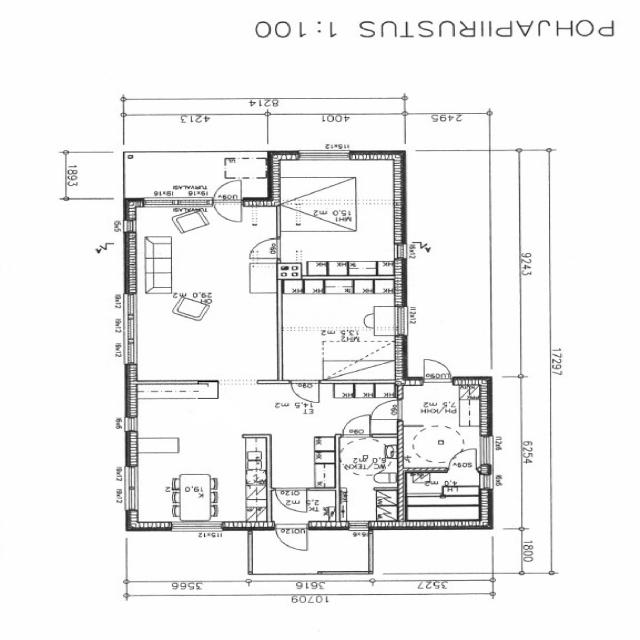door: (211, 179, 245, 225), (274, 522, 312, 552), (273, 486, 311, 515), (338, 412, 374, 438), (419, 357, 454, 383), (288, 378, 322, 404), (247, 236, 281, 261), (446, 446, 481, 470), (369, 398, 402, 421)
window: (117, 291, 142, 365), (139, 195, 214, 210), (120, 464, 142, 513), (295, 148, 354, 163), (169, 520, 227, 534), (478, 434, 494, 466), (393, 304, 409, 336), (122, 415, 140, 433), (121, 218, 136, 238), (346, 522, 370, 532)
zone: (127, 398, 270, 522), (280, 277, 399, 382), (276, 156, 386, 237), (399, 381, 486, 468), (337, 434, 400, 525), (469, 13, 624, 45), (404, 468, 490, 524), (399, 384, 477, 424), (383, 22, 464, 38), (258, 22, 306, 40), (296, 22, 338, 38)
